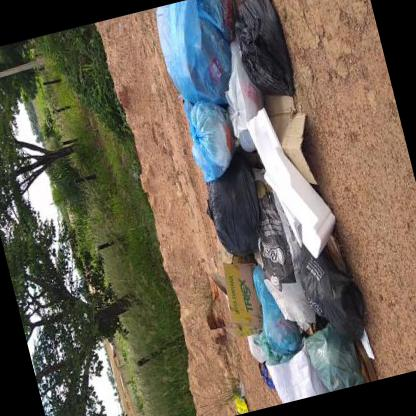lixo: (156, 0, 380, 410)
